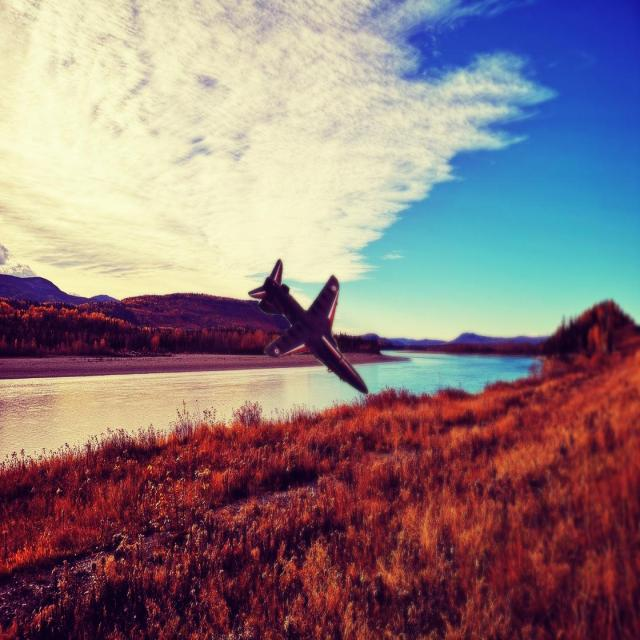airplane: (248, 257, 368, 395)
